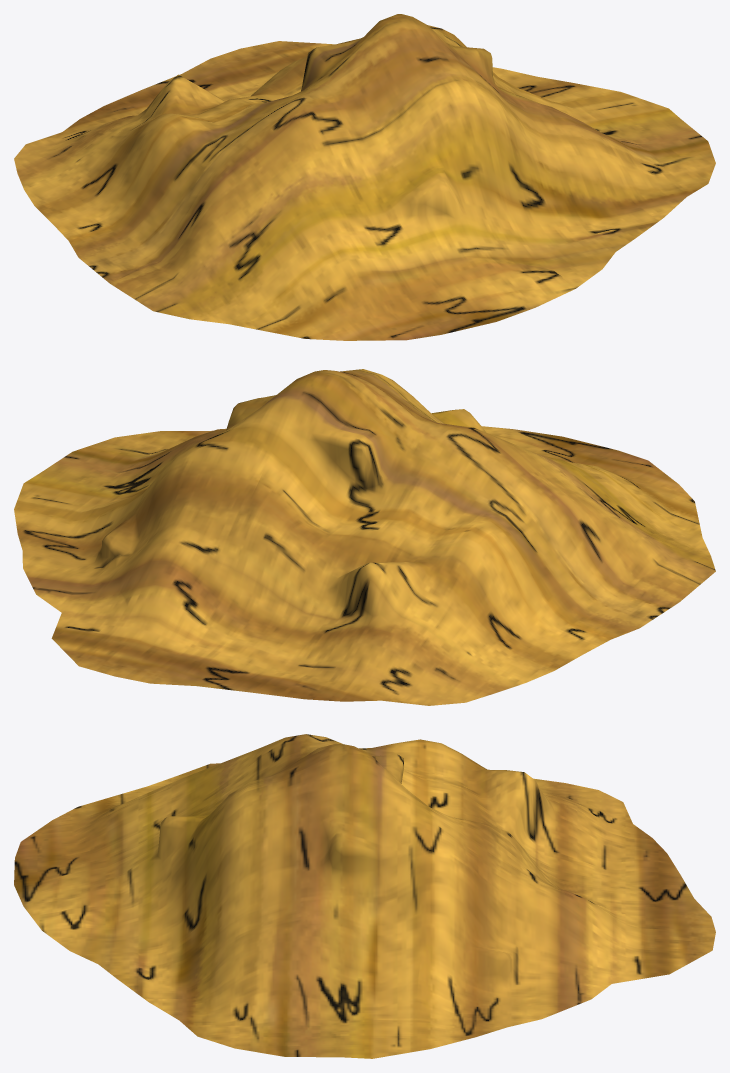
File: Mound.glb
The picture shows the model from 3 angles, top to bottom: view 1: azimuth 30°, elevation 25°; view 2: azimuth 150°, elevation 25°; view 3: azimuth 270°, elevation 25°; orthographic projection. The views are drawn at different scales.
Visible parts, largest first — view 1: Plane.002; view 2: Plane.002; view 3: Plane.002.
Part boxes in pixels (x1,y1,x2,y2): Plane.002: (14, 14, 715, 340); Plane.002: (14, 369, 715, 705); Plane.002: (14, 734, 715, 1058).
Size of the model in its own units: 2.15 by 0.5816 by 2.15.
Materials: 1 (1 with a texture image).
